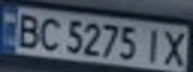2: (78, 19, 103, 57)
5: (118, 23, 142, 62), (60, 17, 84, 55)
7: (100, 20, 121, 60)
B: (9, 10, 45, 48)
C: (33, 15, 66, 52)
I: (139, 26, 169, 64)
X: (157, 27, 193, 68)
